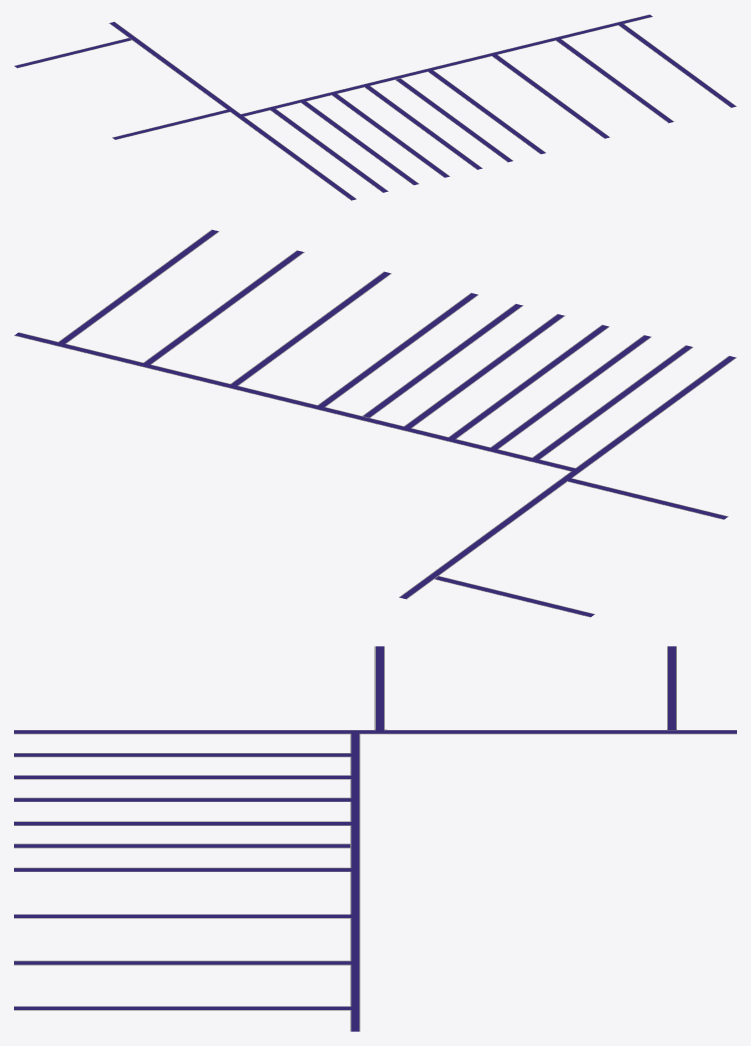
File: Rua_pronta.fbx
The picture shows the model from 3 angles, top to bottom: view 1: azimuth 30°, elevation 25°; view 2: azimuth 150°, elevation 25°; view 3: azimuth 270°, elevation 25°; orthographic projection. The views are drawn at different scales.
Visible parts, largest first — view 1: Rua_reto.024, Rua_reto.025, Rua_reto.030, Rua_reto.031, Rua_reto.032, Rua_reto.034, Rua_reto.033, Rua_reto.035, Rua_reto.046, Rua_reto.045, Rua_reto.047, Rua_reto.048 (+1 smaller); view 2: Rua_reto.024, Rua_reto.034, Rua_reto.035, Rua_reto.045, Rua_reto.031, Rua_reto.032, Rua_reto.033, Rua_reto.046, Rua_reto.030, Rua_reto.025, Rua_reto.047, Rua_reto.048 (+1 smaller); view 3: Rua_reto.024, Rua_reto.032, Rua_reto.034, Rua_reto.031, Rua_reto.033, Rua_reto.035, Rua_reto.046, Rua_reto.047, Rua_reto.030, Rua_reto_passeio.036, Rua_reto.045, Rua_reto.025 (+12 smaller).
Boxes of the visible parts, x1=… form: Rua_reto.024: x1=110, y1=22, x2=243, y2=117; Rua_reto.025: x1=239, y1=116, x2=355, y2=200; Rua_reto.030: x1=301, y1=101, x2=418, y2=185; Rua_reto.031: x1=365, y1=86, x2=482, y2=169; Rua_reto.032: x1=428, y1=70, x2=545, y2=154; Rua_reto.034: x1=556, y1=39, x2=673, y2=122; Rua_reto.033: x1=492, y1=55, x2=609, y2=138; Rua_reto.035: x1=619, y1=24, x2=735, y2=107; Rua_reto.046: x1=332, y1=94, x2=449, y2=177; Rua_reto.045: x1=271, y1=109, x2=387, y2=192; Rua_reto.047: x1=396, y1=78, x2=512, y2=162; Rua_reto.048: x1=112, y1=110, x2=229, y2=139; Rua_reto.024: x1=399, y1=468, x2=582, y2=599; Rua_reto.034: x1=143, y1=250, x2=303, y2=364; Rua_reto.035: x1=58, y1=230, x2=218, y2=343; Rua_reto.045: x1=533, y1=345, x2=692, y2=459; Rua_reto.031: x1=404, y1=314, x2=563, y2=428; Rua_reto.032: x1=318, y1=293, x2=477, y2=406; Rua_reto.033: x1=231, y1=272, x2=390, y2=386; Rua_reto.046: x1=448, y1=325, x2=608, y2=438; Rua_reto.030: x1=491, y1=335, x2=650, y2=449; Rua_reto.025: x1=576, y1=356, x2=735, y2=469; Rua_reto.047: x1=363, y1=304, x2=522, y2=417; Rua_reto.048: x1=568, y1=479, x2=728, y2=519; Rua_reto.024: x1=349, y1=730, x2=736, y2=734; Rua_reto.032: x1=14, y1=868, x2=351, y2=871; Rua_reto.034: x1=14, y1=961, x2=351, y2=964; Rua_reto.031: x1=14, y1=822, x2=351, y2=825; Rua_reto.033: x1=14, y1=914, x2=351, y2=917; Rua_reto.035: x1=14, y1=1006, x2=351, y2=1009; Rua_reto.046: x1=14, y1=798, x2=351, y2=801; Rua_reto.047: x1=14, y1=844, x2=350, y2=847; Rua_reto.030: x1=14, y1=775, x2=350, y2=778; Rua_reto_passeio.036: x1=14, y1=960, x2=350, y2=965; Rua_reto.045: x1=14, y1=753, x2=350, y2=756; Rua_reto.025: x1=14, y1=730, x2=350, y2=733.
Size of the model in its own units: 101492 by 28.16 by 80472.
